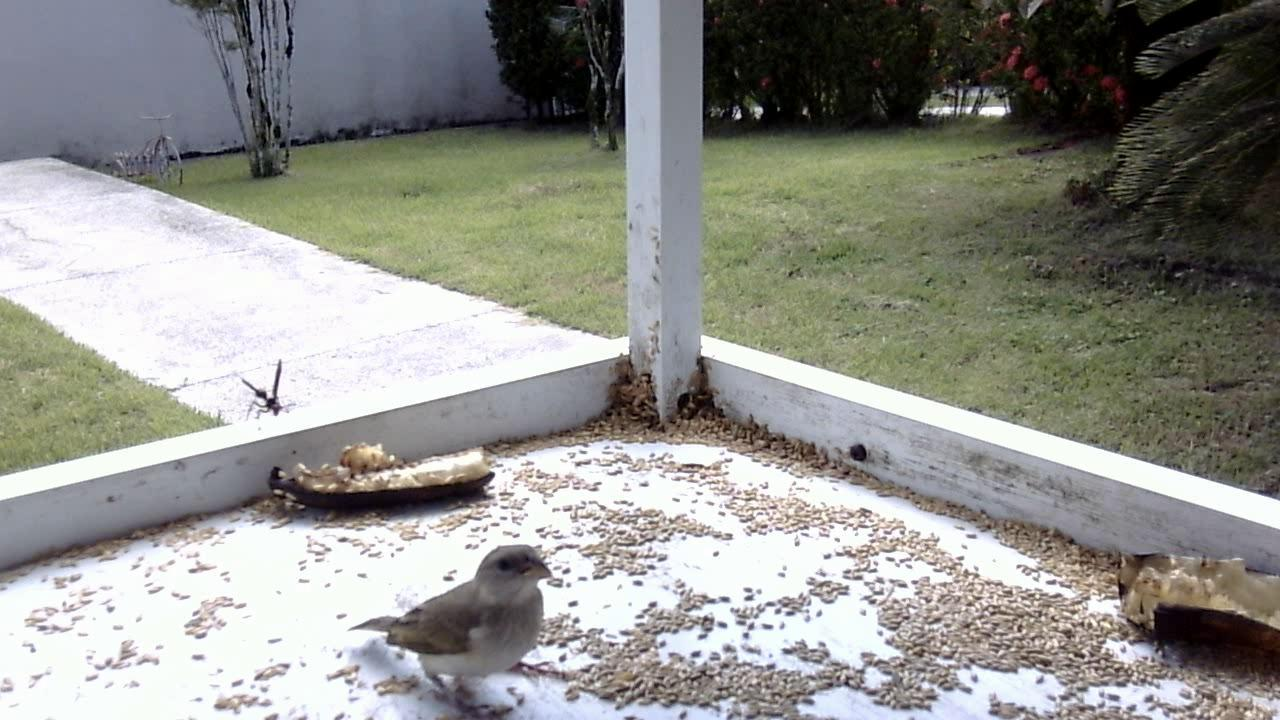canario_do_amazonas: (331, 543, 561, 712)
